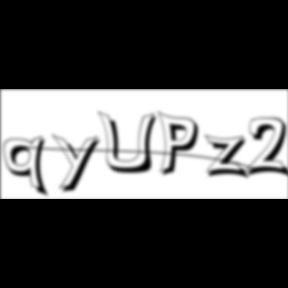P: (158, 110, 206, 180)
U: (98, 110, 162, 176)
q: (3, 135, 53, 200)
y: (52, 132, 106, 196)
z: (204, 134, 253, 182)
